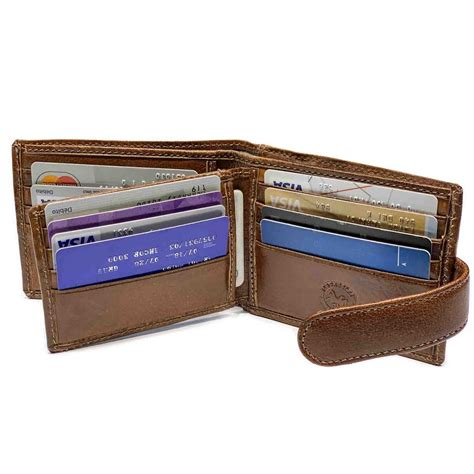cuero: (11, 136, 470, 376)
